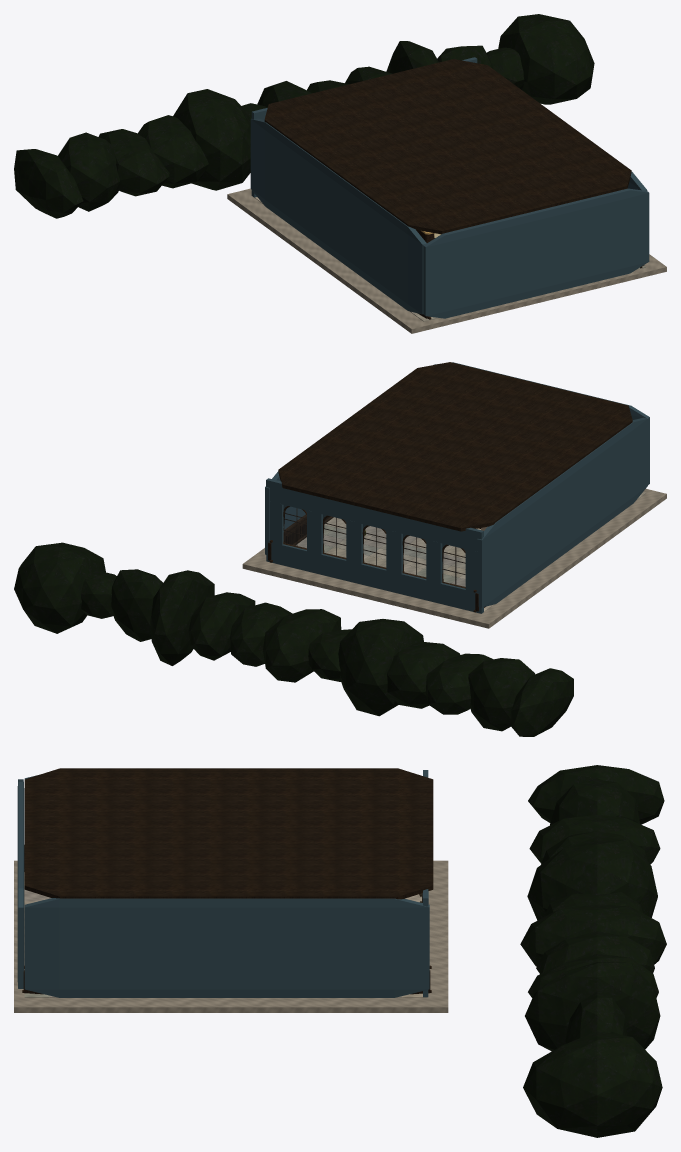
The model's file is museum-0.glb.
3 renders of one model, top to bottom at view 1: azimuth 30°, elevation 25°; view 2: azimuth 150°, elevation 25°; view 3: azimuth 270°, elevation 25°, orthographic. The views are drawn at different scales.
Visible parts, largest first — view 1: Walnut ceiling, Distant view beyond gallery windows, Entry wall, Deep teal gallery side walls, Terrain; view 2: Distant view beyond gallery windows, Walnut ceiling, Deep teal gallery side walls, Terrain, Rear wall under windows, Rear wall between the windows, Rear wall over arched windows, Hand-laid limestone square tiles, Sculpted walnut window trim; view 3: Walnut ceiling, Distant view beyond gallery windows, Deep teal gallery side walls, Terrain, Entry wall.
Boxes of the visible parts, bbox=[...] form: Walnut ceiling: bbox=[264, 59, 631, 234]; Distant view beyond gallery windows: bbox=[14, 14, 594, 218]; Entry wall: bbox=[423, 188, 649, 318]; Deep teal gallery side walls: bbox=[250, 118, 647, 314]; Terrain: bbox=[227, 188, 666, 333]; Distant view beyond gallery windows: bbox=[14, 542, 573, 736]; Walnut ceiling: bbox=[278, 362, 632, 531]; Deep teal gallery side walls: bbox=[265, 417, 647, 607]; Terrain: bbox=[242, 489, 666, 628]; Rear wall under windows: bbox=[266, 543, 483, 613]; Rear wall between the windows: bbox=[270, 501, 477, 592]; Rear wall over arched windows: bbox=[266, 478, 483, 551]; Hand-laid limestone square tiles: bbox=[269, 492, 646, 613]; Sculpted walnut window trim: bbox=[283, 506, 465, 588]; Walnut ceiling: bbox=[24, 768, 433, 899]; Distant view beyond gallery windows: bbox=[520, 765, 666, 1137]; Deep teal gallery side walls: bbox=[24, 775, 429, 997]; Terrain: bbox=[14, 860, 448, 1012]; Entry wall: bbox=[17, 779, 24, 988].
Bounding box in the file's own units: 29.41 × 7.13 × 25.41.
Materials: 12 (3 with a texture image).
